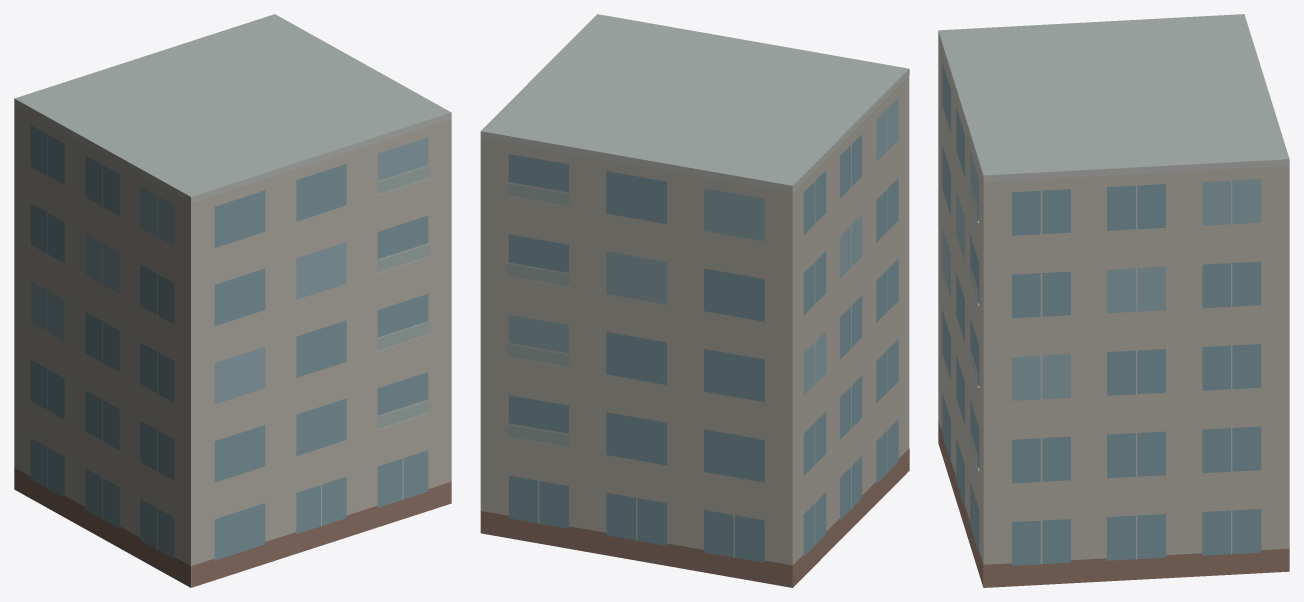
File: survey-upis-32530976.glb
3 views of the same model, side by side, from view 1: azimuth 30°, elevation 25°; view 2: azimuth 150°, elevation 25°; view 3: azimuth 270°, elevation 25° (orthographic). The views are drawn at different scales.
Visible parts, largest first — view 1: survey-upis-32530976.tmp; view 2: survey-upis-32530976.tmp; view 3: survey-upis-32530976.tmp.
Part boxes in pixels (x1=…): survey-upis-32530976.tmp: x1=14, y1=14, x2=451, y2=587; survey-upis-32530976.tmp: x1=480, y1=14, x2=909, y2=587; survey-upis-32530976.tmp: x1=938, y1=14, x2=1289, y2=587.
Bounding box in the file's own units: 12.77 × 15.2 × 11.75.
